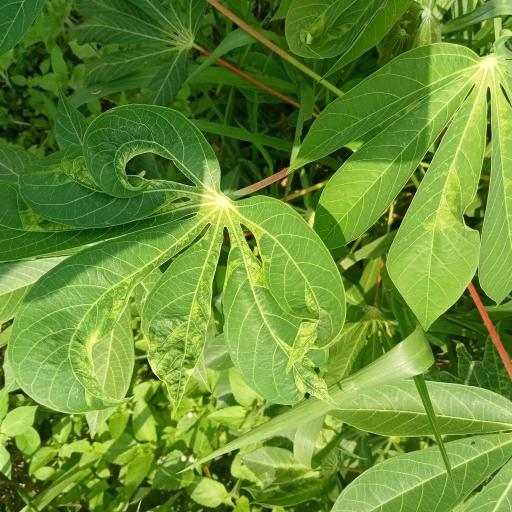Cassava_Healthy: (1, 103, 348, 416), (297, 34, 512, 320)
